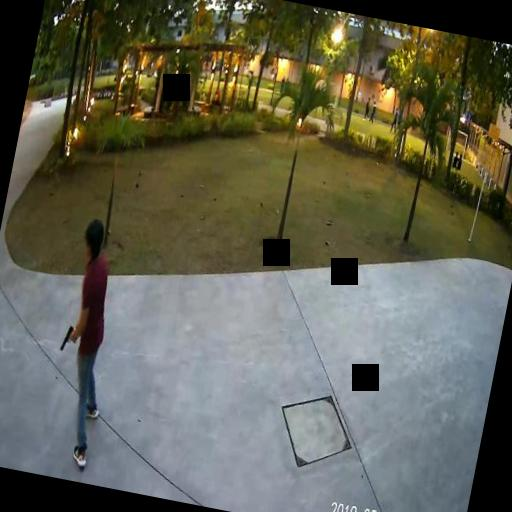Handgun: (58, 324, 76, 350)
